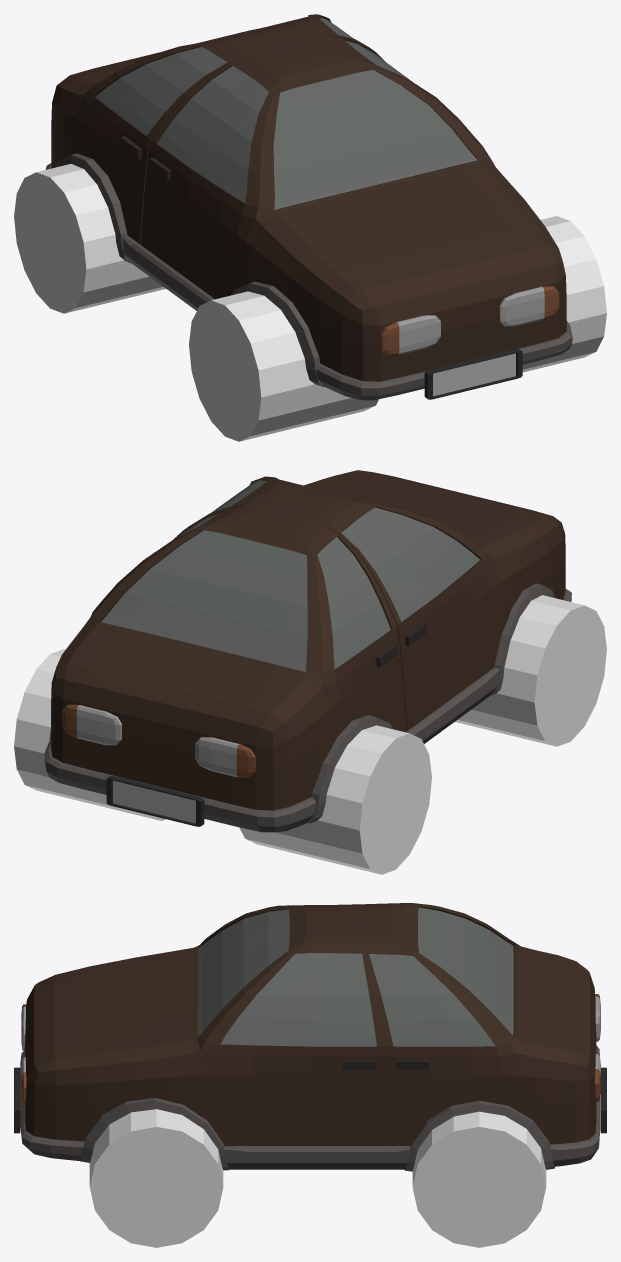
The model's file is car3-3.fbx.
3 views of the same model, one above another, from view 1: azimuth 30°, elevation 25°; view 2: azimuth 150°, elevation 25°; view 3: azimuth 270°, elevation 25° (orthographic). The views are drawn at different scales.
Visible parts, largest first — view 1: Cube, Cylinder.002, Cylinder.003, Cylinder, Cube.001, Cube.004, Cube.003, Cylinder.006, Cylinder.007; view 2: Cube, Cylinder.003, Cylinder.002, Cylinder.001, Cube.002, Cube.006, Cube.005, Cylinder.007, Cylinder.006; view 3: Cube, Cylinder, Cylinder.001, Cylinder.005, Cylinder.004, Cube.001.
Boxes of the visible parts, <box> form: Cube: <box>45,14,572,400</box>; Cylinder.002: <box>189,291,378,441</box>; Cylinder.003: <box>14,164,165,313</box>; Cylinder: <box>522,216,606,372</box>; Cube.001: <box>424,348,522,399</box>; Cube.004: <box>380,315,440,355</box>; Cube.003: <box>499,286,559,326</box>; Cylinder.006: <box>231,281,323,386</box>; Cylinder.007: <box>55,153,130,263</box>; Cube: <box>44,470,571,832</box>; Cylinder.003: <box>239,725,431,874</box>; Cylinder.002: <box>455,595,606,746</box>; Cylinder.001: <box>14,649,165,820</box>; Cube.002: <box>106,776,204,826</box>; Cube.006: <box>195,737,255,777</box>; Cube.005: <box>62,704,122,745</box>; Cylinder.007: <box>307,715,392,823</box>; Cylinder.006: <box>491,583,555,695</box>; Cube: <box>20,903,600,1169</box>; Cylinder: <box>89,1109,223,1247</box>; Cylinder.001: <box>412,1111,546,1247</box>; Cylinder.005: <box>404,1100,554,1171</box>; Cylinder.004: <box>80,1098,229,1170</box>; Cube.001: <box>14,1067,20,1133</box>.
Size of the model in its own units: 552 by 409 by 888.
